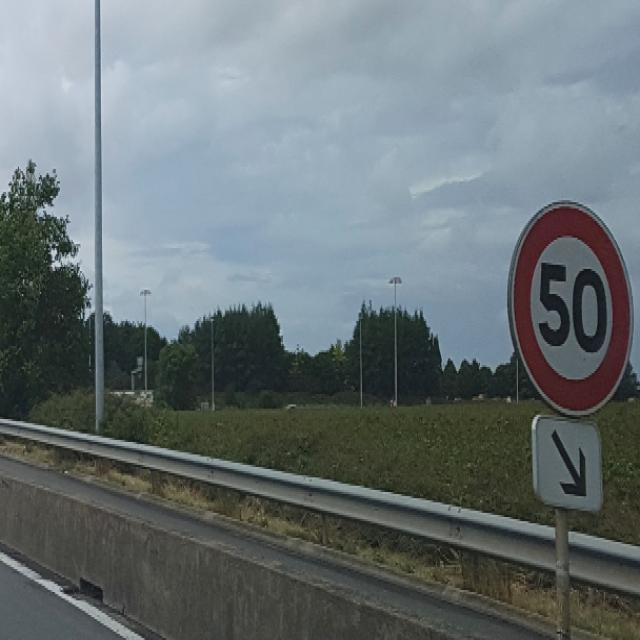speed_50: (508, 198, 634, 422)
